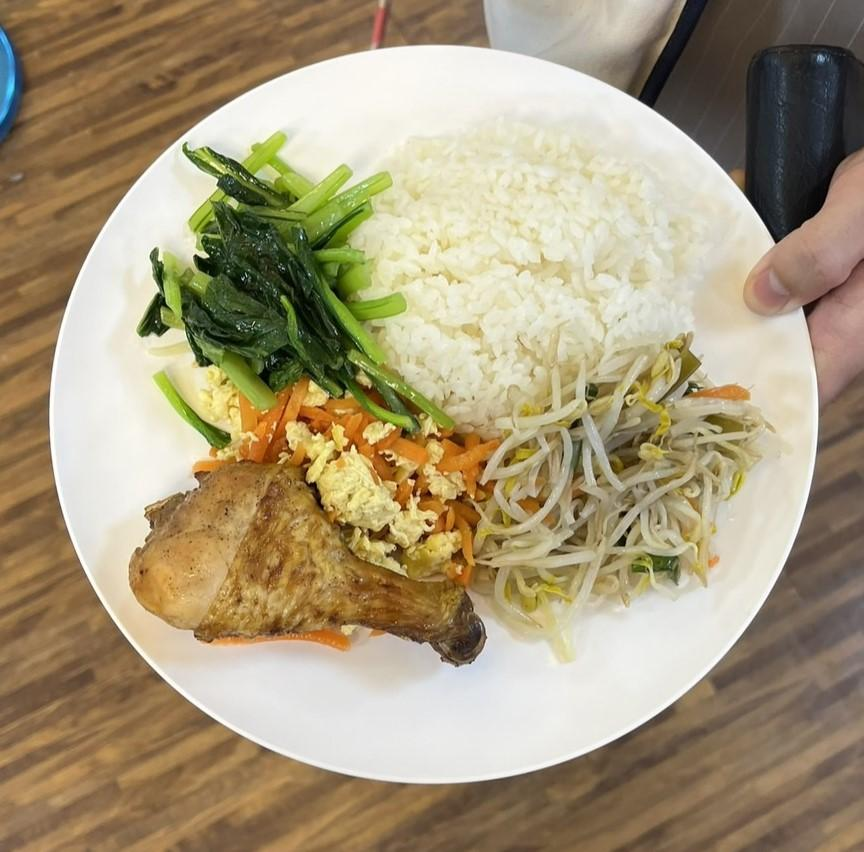big fried chicken leg: (52, 38, 831, 797)
big herbal chicken leg: (361, 108, 692, 418)
braised fish fillet: (470, 354, 762, 620), (132, 134, 398, 396), (196, 376, 475, 578)
braised pork: (124, 460, 483, 666)
